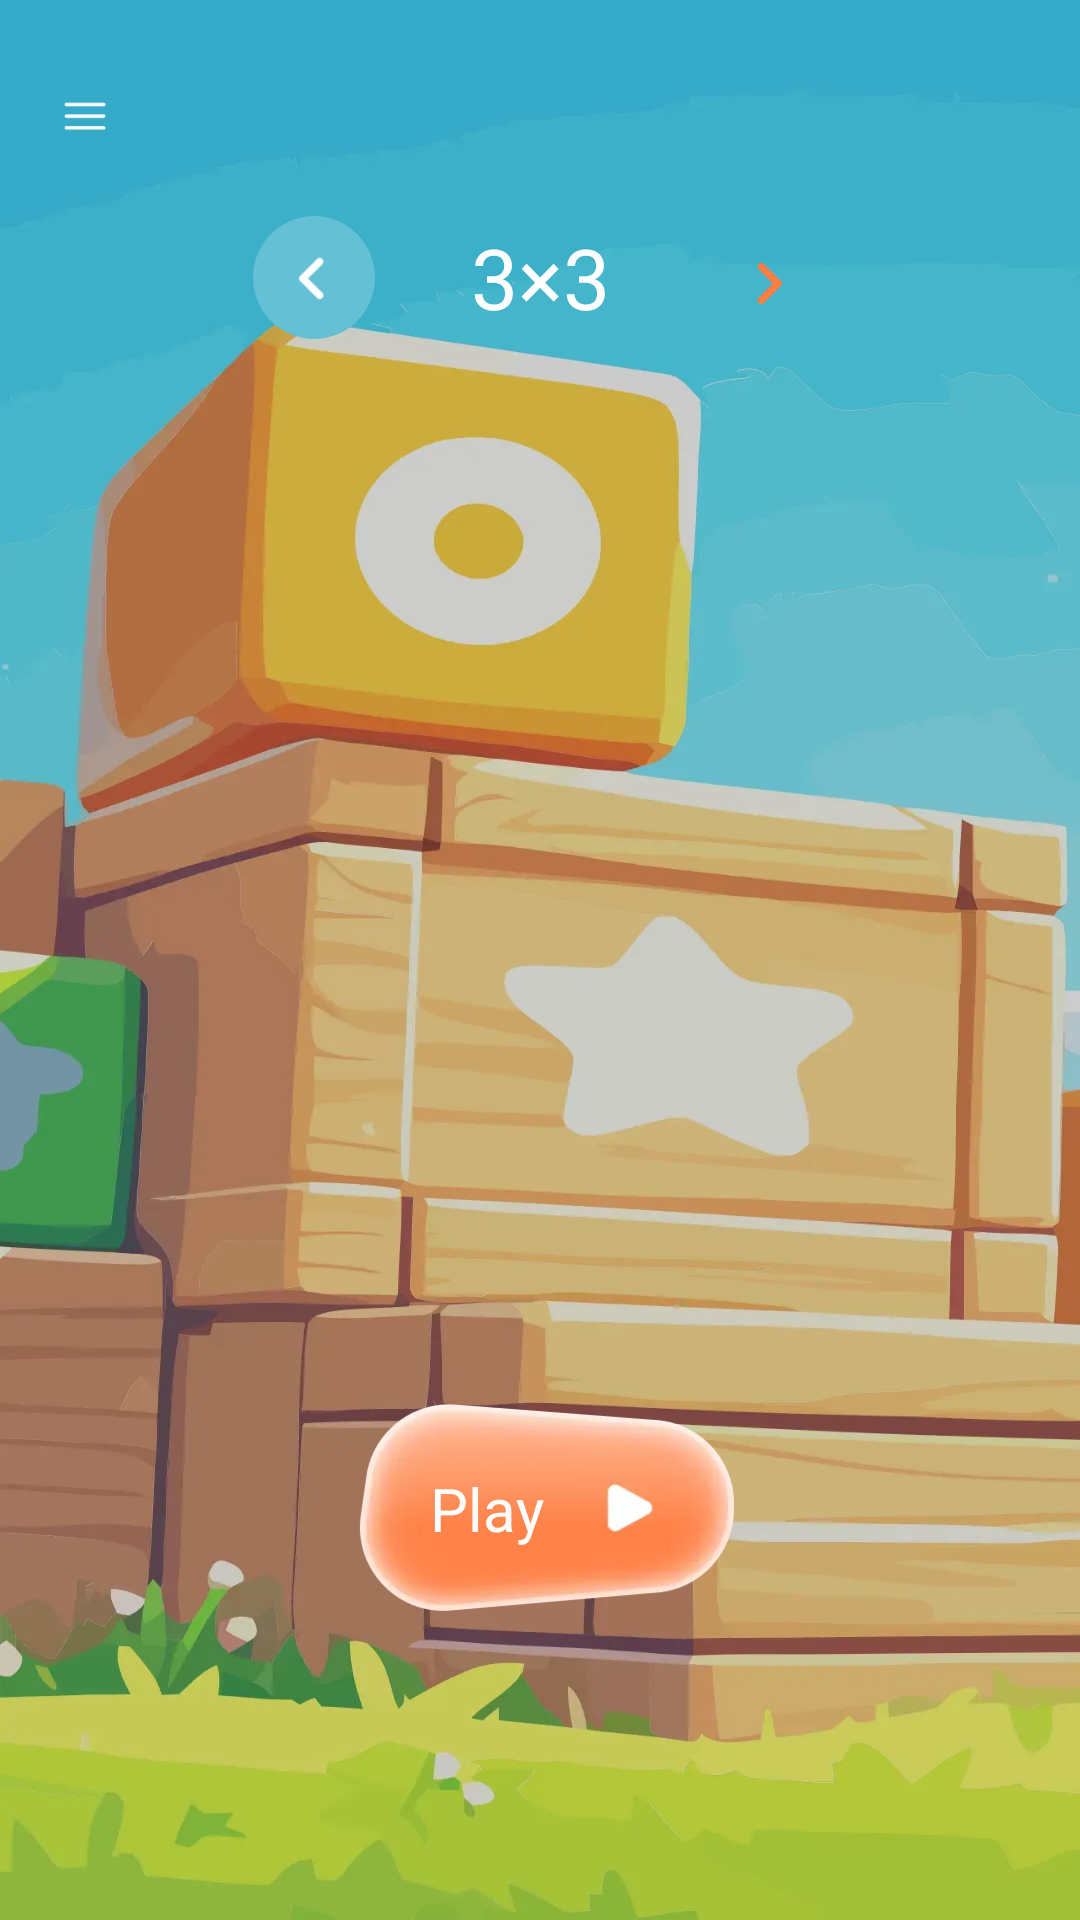

Icons on this 1080w x 1920h Android screen, each with its box as (x1, y1, x2, y2):
menu: (64, 102, 106, 130)
next: (757, 263, 783, 305)
previous: (253, 216, 375, 339)
